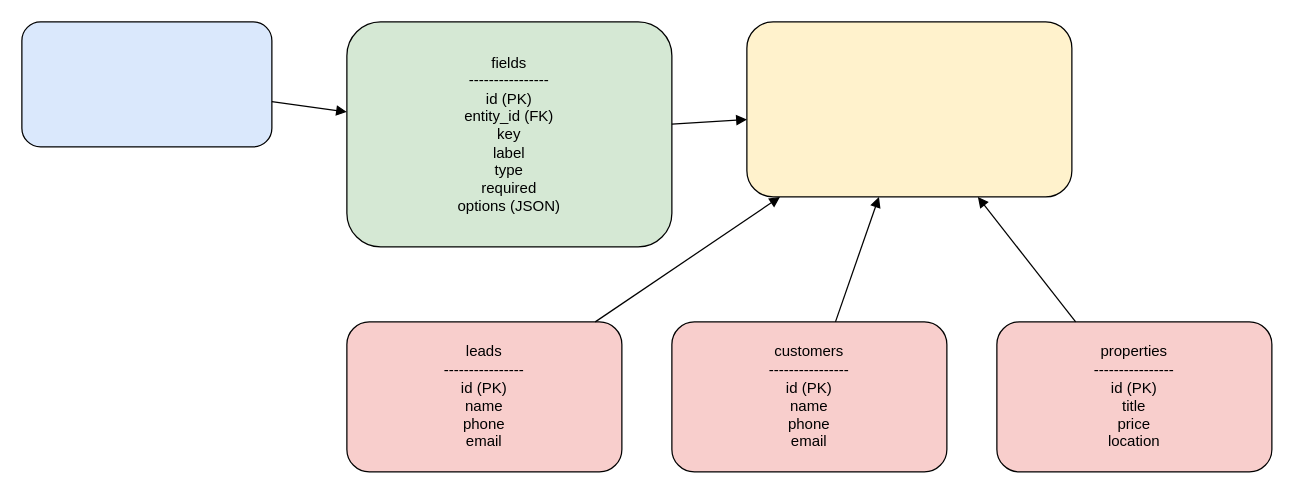
Image size: 1294x494. Some labels were removed from this diagram. The box of each missing label's shape, as (x1, y1, x2, y2) in pixels:
entities ---------------- id (PK) key: (21, 21, 272, 147)
field_values ---------------- id (PK) field_id (FK) record_id value: (746, 21, 1072, 197)
